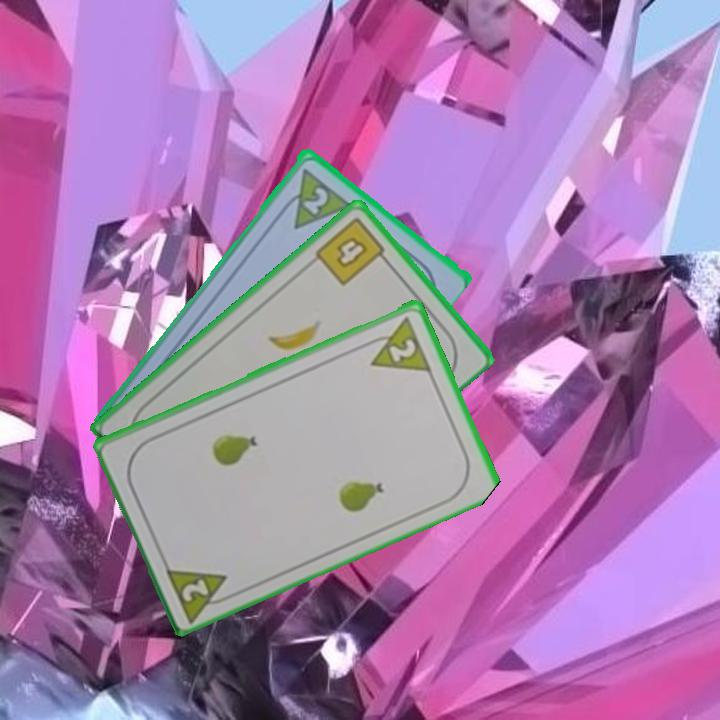2p: (161, 561, 238, 623), (359, 312, 434, 374), (299, 182, 331, 217)
4b: (311, 213, 393, 288)
